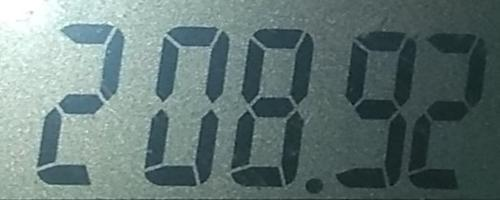.: (304, 175, 323, 197)
